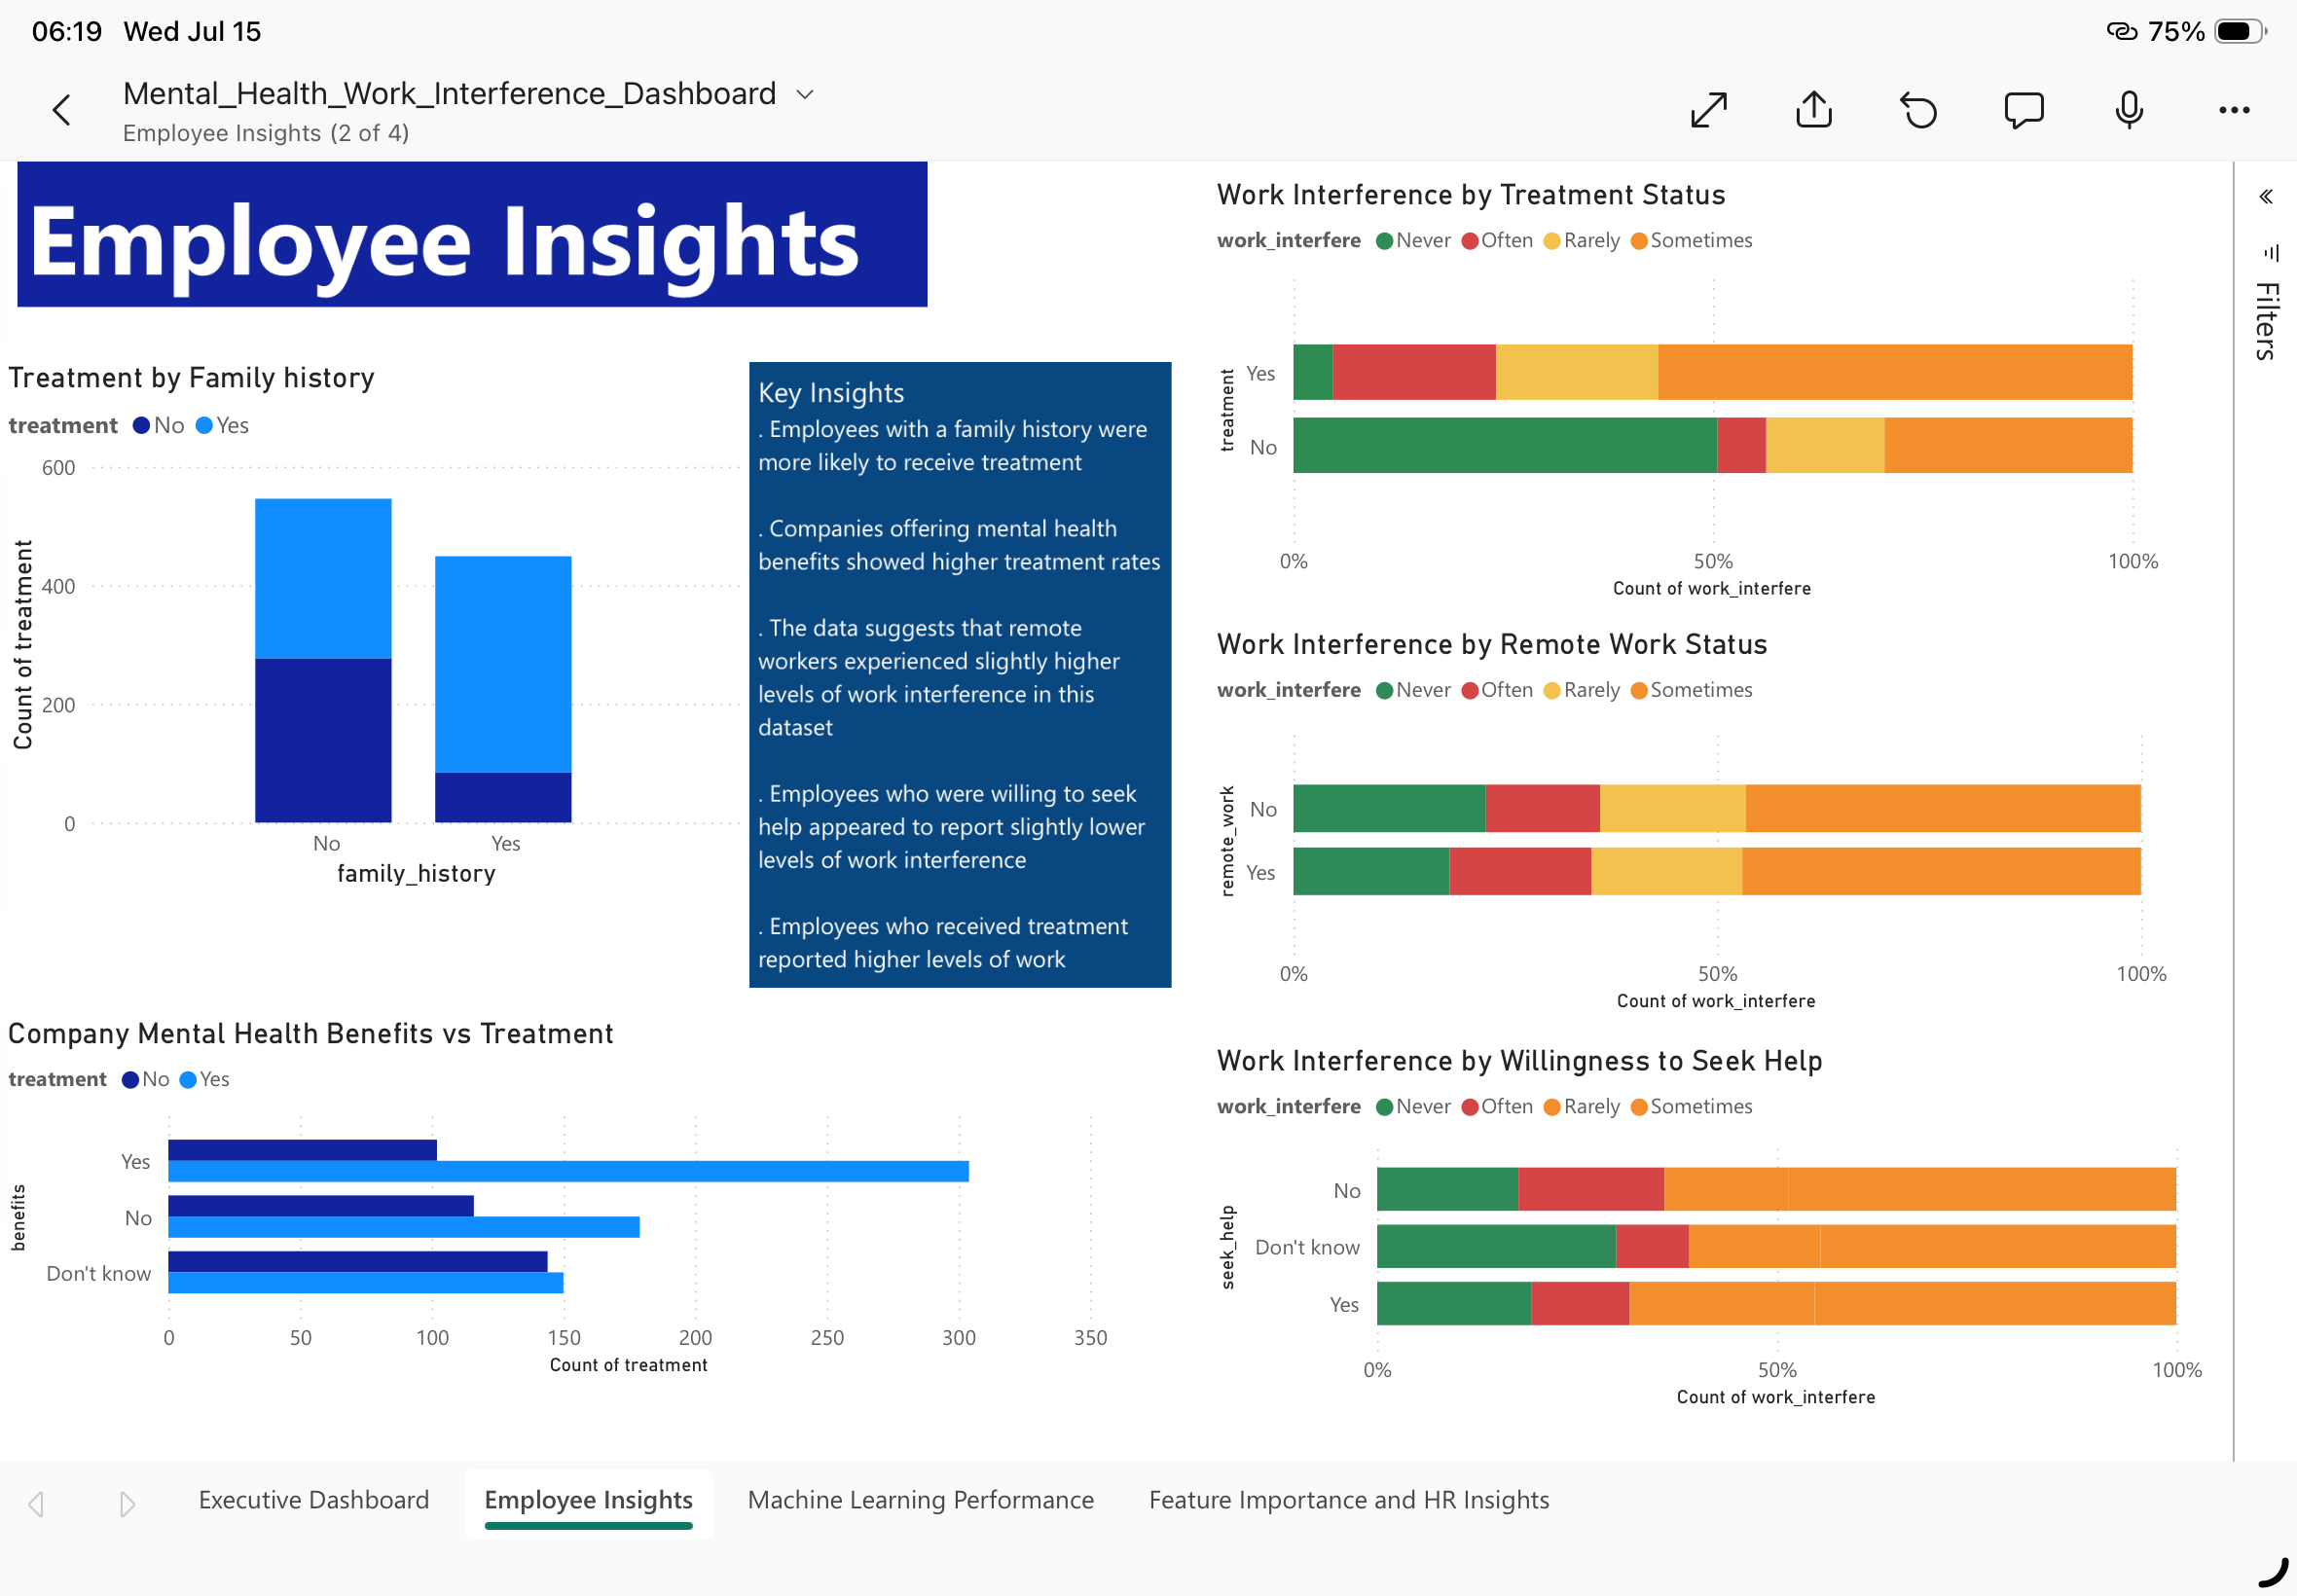

The page's visual inventory and layout, read from the dashboard file:
{"tool":"powerbi","page":{"name":"Employee Insights","canvas":[1280,720],"ordinal":1},"visuals":[{"type":"textbox","box":[9.7,0,521.3,84.6],"z":0},{"type":"columnChart","title":"Treatment by Family history","fields":{"Category":["mental_health_power_bi.family_history"],"Series":["mental_health_power_bi.treatment"],"Y":["CountNonNull(mental_health_power_bi.treatment)"]},"box":[0,115.7,429.9,305.4],"z":1},{"type":"clusteredBarChart","title":"Company Mental Health Benefits vs Treatment","fields":{"Category":["mental_health_power_bi.benefits"],"Y":["CountNonNull(mental_health_power_bi.treatment)"],"Series":["mental_health_power_bi.treatment"]},"box":[0,492.2,640,209.1],"z":2},{"type":"hundredPercentStackedBarChart","title":"Work Interference by Remote Work Status","fields":{"Category":["mental_health_power_bi.remote_work"],"Series":["mental_health_power_bi.work_interfere"],"Y":["CountNonNull(mental_health_power_bi.work_interfere)"]},"box":[692.5,268.4,554.4,223.7],"z":3},{"type":"hundredPercentStackedBarChart","title":"Work Interference by Willingness to Seek Help","fields":{"Series":["mental_health_power_bi.work_interfere"],"Y":["CountNonNull(mental_health_power_bi.work_interfere)"],"Category":["mental_health_power_bi.seek_help"]},"box":[692.5,507.7,574.8,212],"z":4},{"type":"hundredPercentStackedBarChart","title":"Work Interference by Treatment Status","fields":{"Category":["mental_health_power_bi.treatment"],"Series":["mental_health_power_bi.work_interfere"],"Y":["CountNonNull(mental_health_power_bi.work_interfere)"]},"box":[692.5,10.7,549.5,245.1],"z":5},{"type":"textbox","box":[429.9,115.7,242.2,358.9],"z":6}]}

Visuals, with their boxes on the page's 1280x720 design canvas (x1, y1, x2, y2). These are canvas units, not pixel positions in the 2297x1596 screenshot, which may show the page scaled, cropped or inside an application window:
textbox: box(10, 0, 531, 85)
"Treatment by Family history" columnChart: box(0, 116, 430, 421)
"Company Mental Health Benefits vs Treatment" clusteredBarChart: box(0, 492, 640, 701)
"Work Interference by Remote Work Status" hundredPercentStackedBarChart: box(692, 268, 1247, 492)
"Work Interference by Willingness to Seek Help" hundredPercentStackedBarChart: box(692, 508, 1267, 720)
"Work Interference by Treatment Status" hundredPercentStackedBarChart: box(692, 11, 1242, 256)
textbox: box(430, 116, 672, 475)
